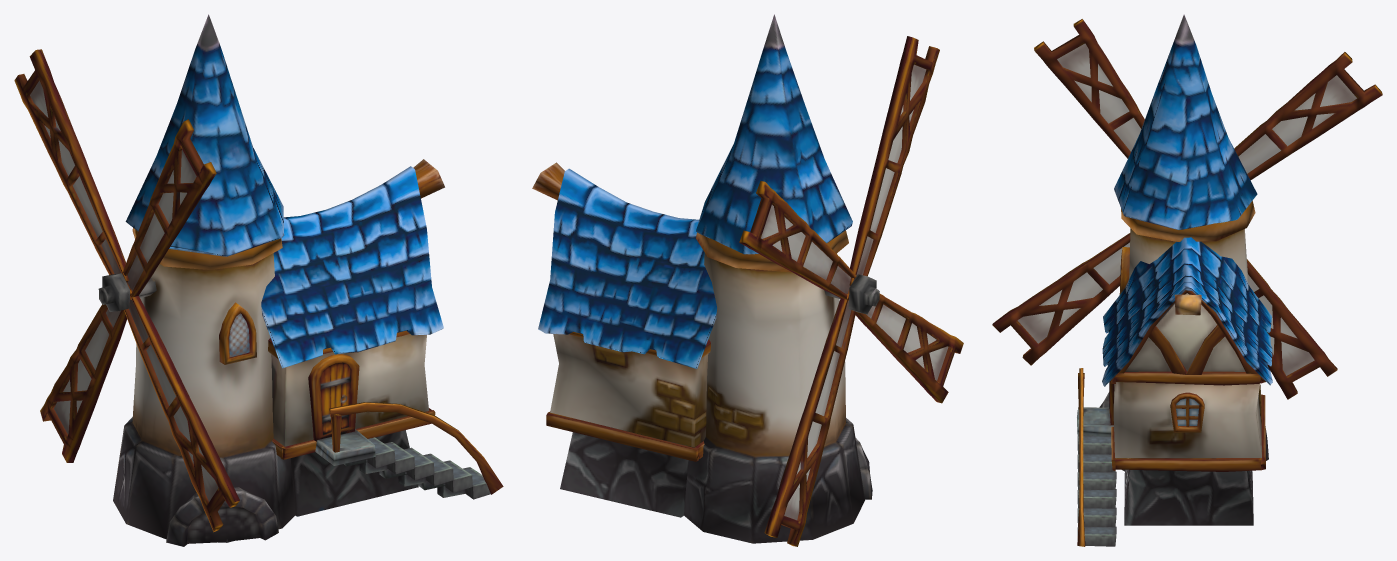
File: Fantasy_House_1.FBX
3 views of the same model, side by side, from view 1: azimuth 30°, elevation 25°; view 2: azimuth 150°, elevation 25°; view 3: azimuth 270°, elevation 25° (orthographic). The views are drawn at different scales.
Parts seen in each view (by area): view 1: Fantasy_House_1; view 2: Fantasy_House_1; view 3: Fantasy_House_1.
Boxes of the visible parts, left/top/right/bottom form: Fantasy_House_1: left=14, top=14, right=503, bottom=546; Fantasy_House_1: left=532, top=14, right=963, bottom=546; Fantasy_House_1: left=992, top=14, right=1382, bottom=546.
Bounding box in the file's own units: 9.29 × 12.83 × 10.43.
